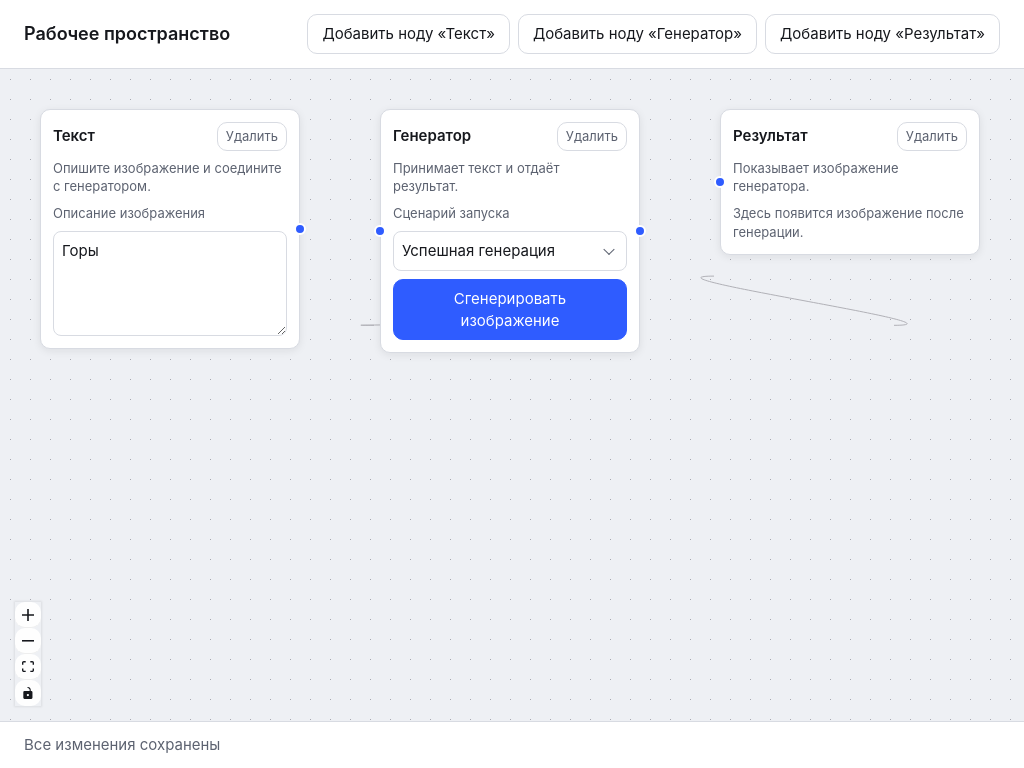
Scenario: экран канваса › конфликт версии графа предлагает перечитать сервер, а не повторить запись
Type " и озеро" into the text box labelled "Описание изображения" at (170, 284), box [53,231,287,336]
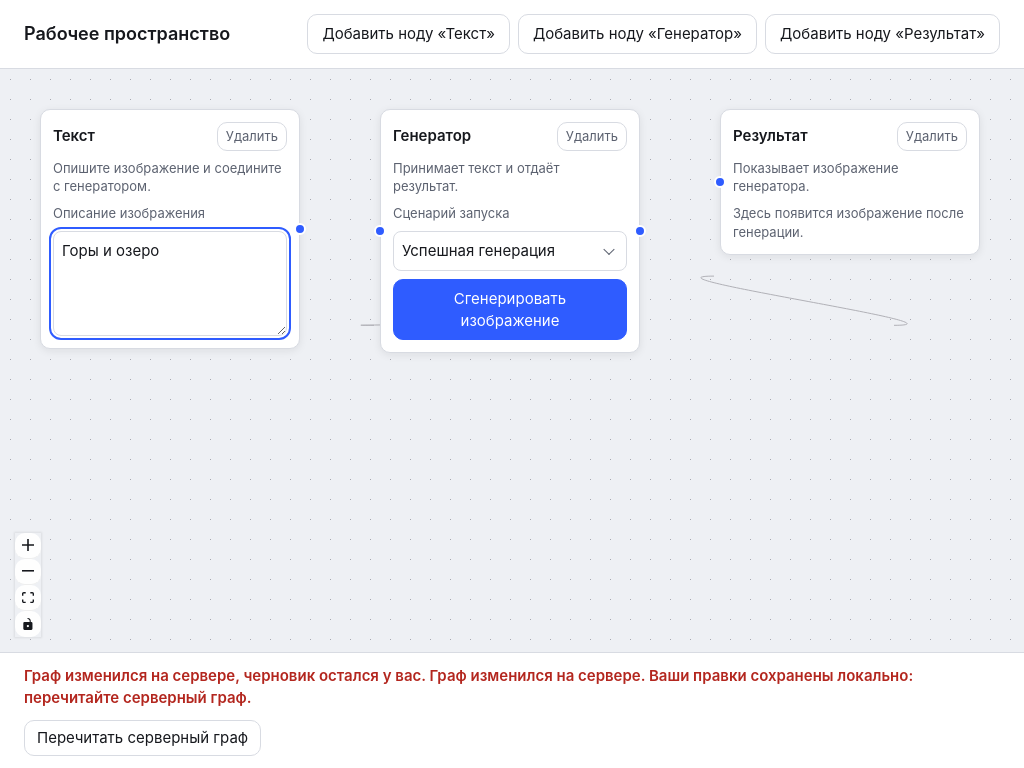
Check: the button "Перечитать серверный граф" is shown, box [24,720,261,756]
Check: the text box labelled "Описание изображения" holds "Горы и озеро", box [53,231,287,336]
